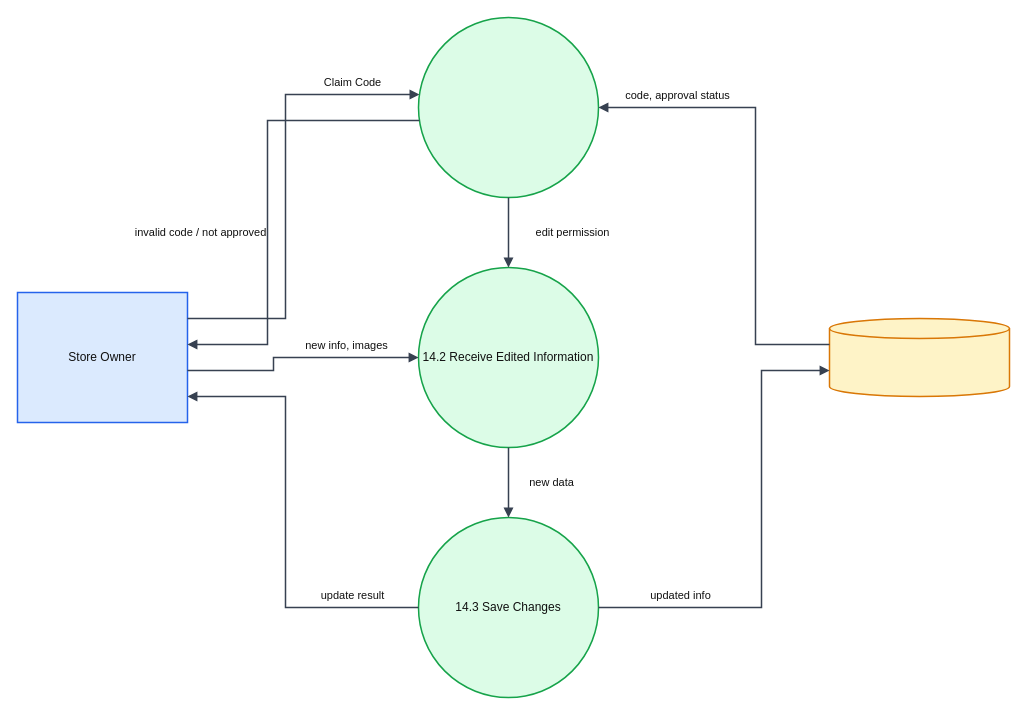
Image size: 1028x716. Some labels were removed from this diagram. The shapes that lost their labels are listed below. From the top down, each one's centre as x and y in pixels, then its label:
the point at 508,107: 14.1 Verify Claim Code
the point at 919,357: D2 Stores
